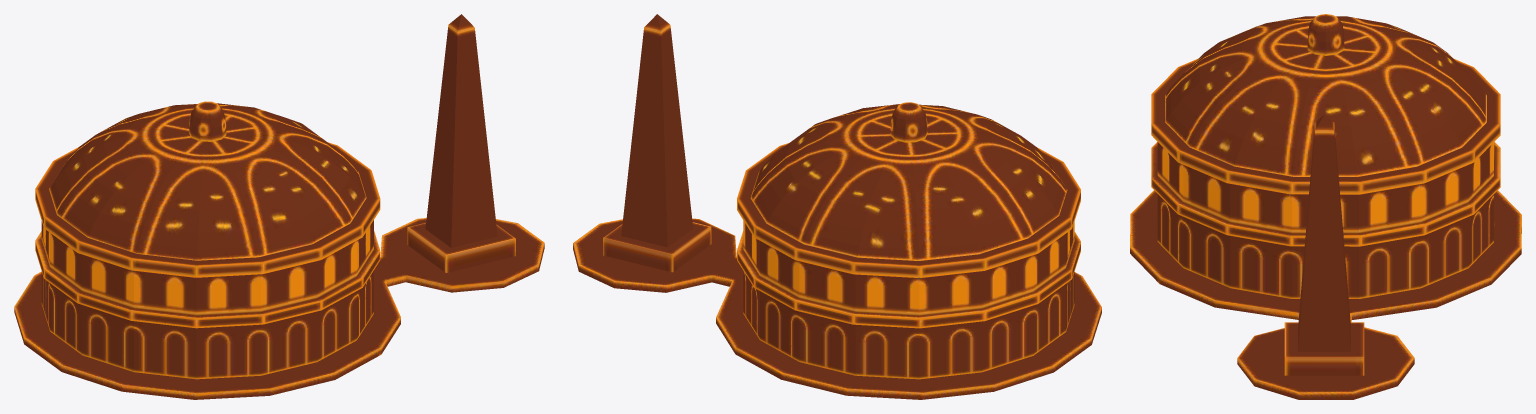
The model's file is RedDome.glb.
3 renders of one model, left to right at view 1: azimuth 30°, elevation 25°; view 2: azimuth 150°, elevation 25°; view 3: azimuth 270°, elevation 25°, orthographic. The views are drawn at different scales.
Parts seen in each view (by area): view 1: RedDome; view 2: RedDome; view 3: RedDome.
Boxes of the visible parts, left/top/right/bottom form: RedDome: left=14, top=14, right=544, bottom=399; RedDome: left=573, top=14, right=1101, bottom=399; RedDome: left=1130, top=14, right=1521, bottom=399.
Bounding box in the file's own units: 0.3539 × 0.1684 × 0.2388.
1 material, 1 textured.
